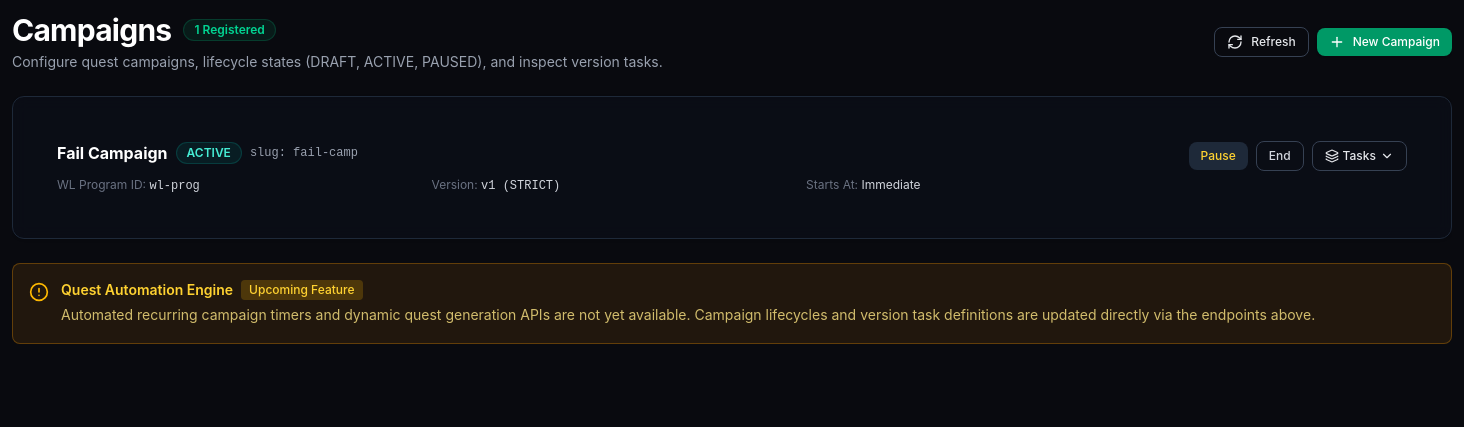
it: Local Testing - Admin Dashboard Campaigns Menu › 3. Perubahan status › menampilkan notifikasi error jika pembaruan status gagal
What coordinates should you click on to do the following:
click the button "End"
I would click on:
 (1280, 156)
Its box is [1256,141,1304,171].
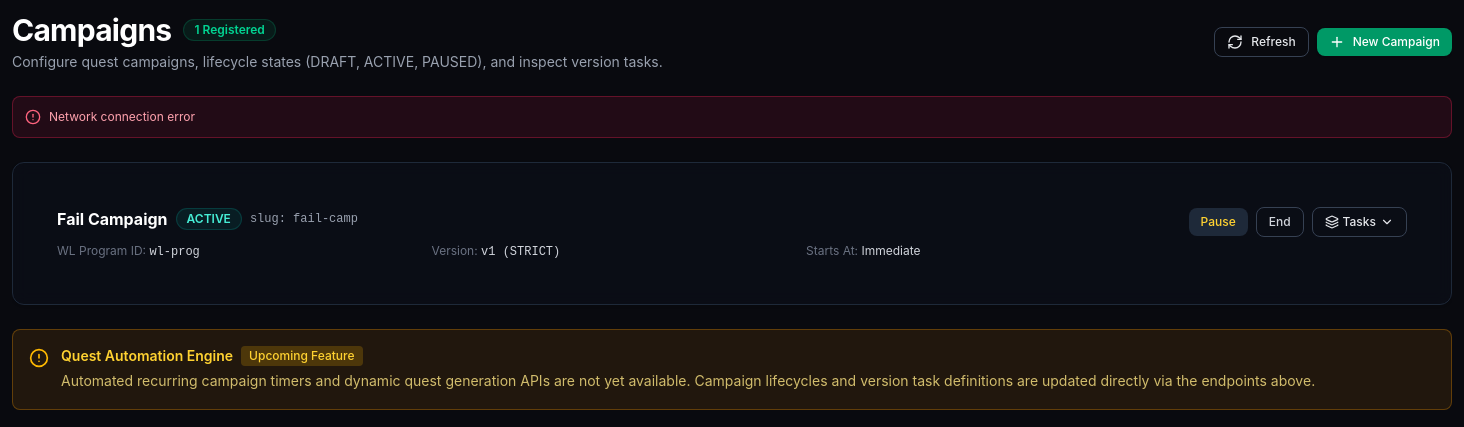
Now the text "Network connection error" is shown, box [49,109,195,125]
